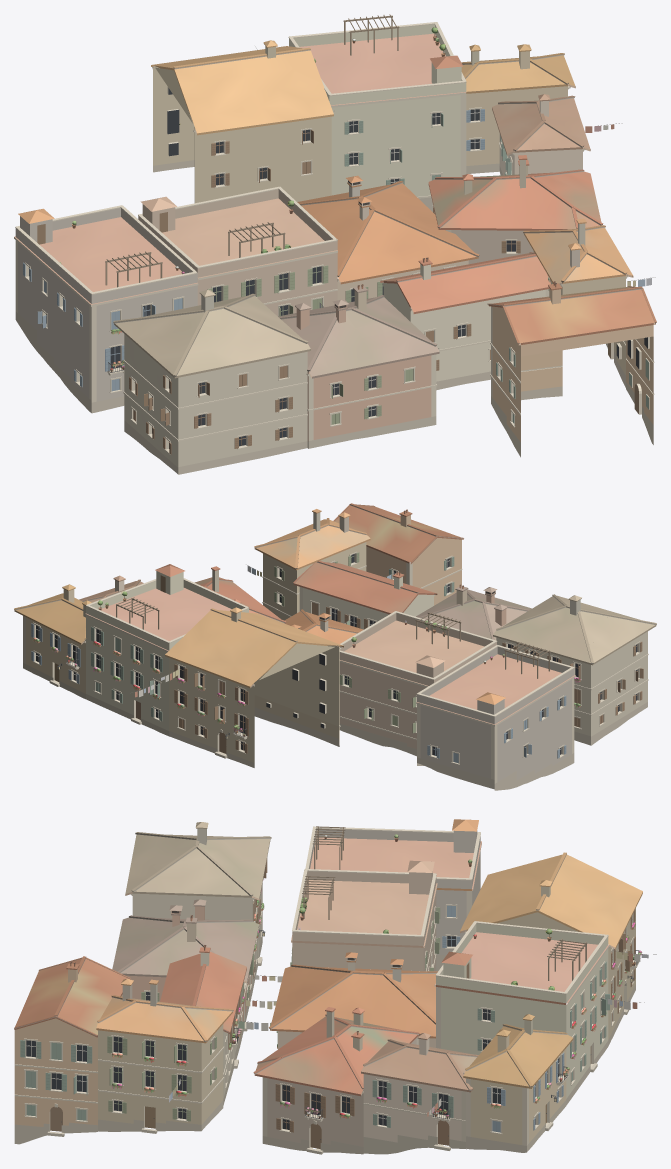
The model's file is SM_BM_BT_blk_17.glb.
3 renders of one model, top to bottom at view 1: azimuth 30°, elevation 25°; view 2: azimuth 150°, elevation 25°; view 3: azimuth 270°, elevation 25°, orthographic. The views are drawn at different scales.
Visible parts, largest first — view 1: SM_BM_BT_blk_17; view 2: SM_BM_BT_blk_17; view 3: SM_BM_BT_blk_17.
Part boxes in pixels (x1,y1,x2,y2): SM_BM_BT_blk_17: [14, 14, 656, 474]; SM_BM_BT_blk_17: [14, 503, 656, 790]; SM_BM_BT_blk_17: [14, 819, 656, 1154].
Bounding box in the file's own units: 62.97 × 22.7 × 61.36.
